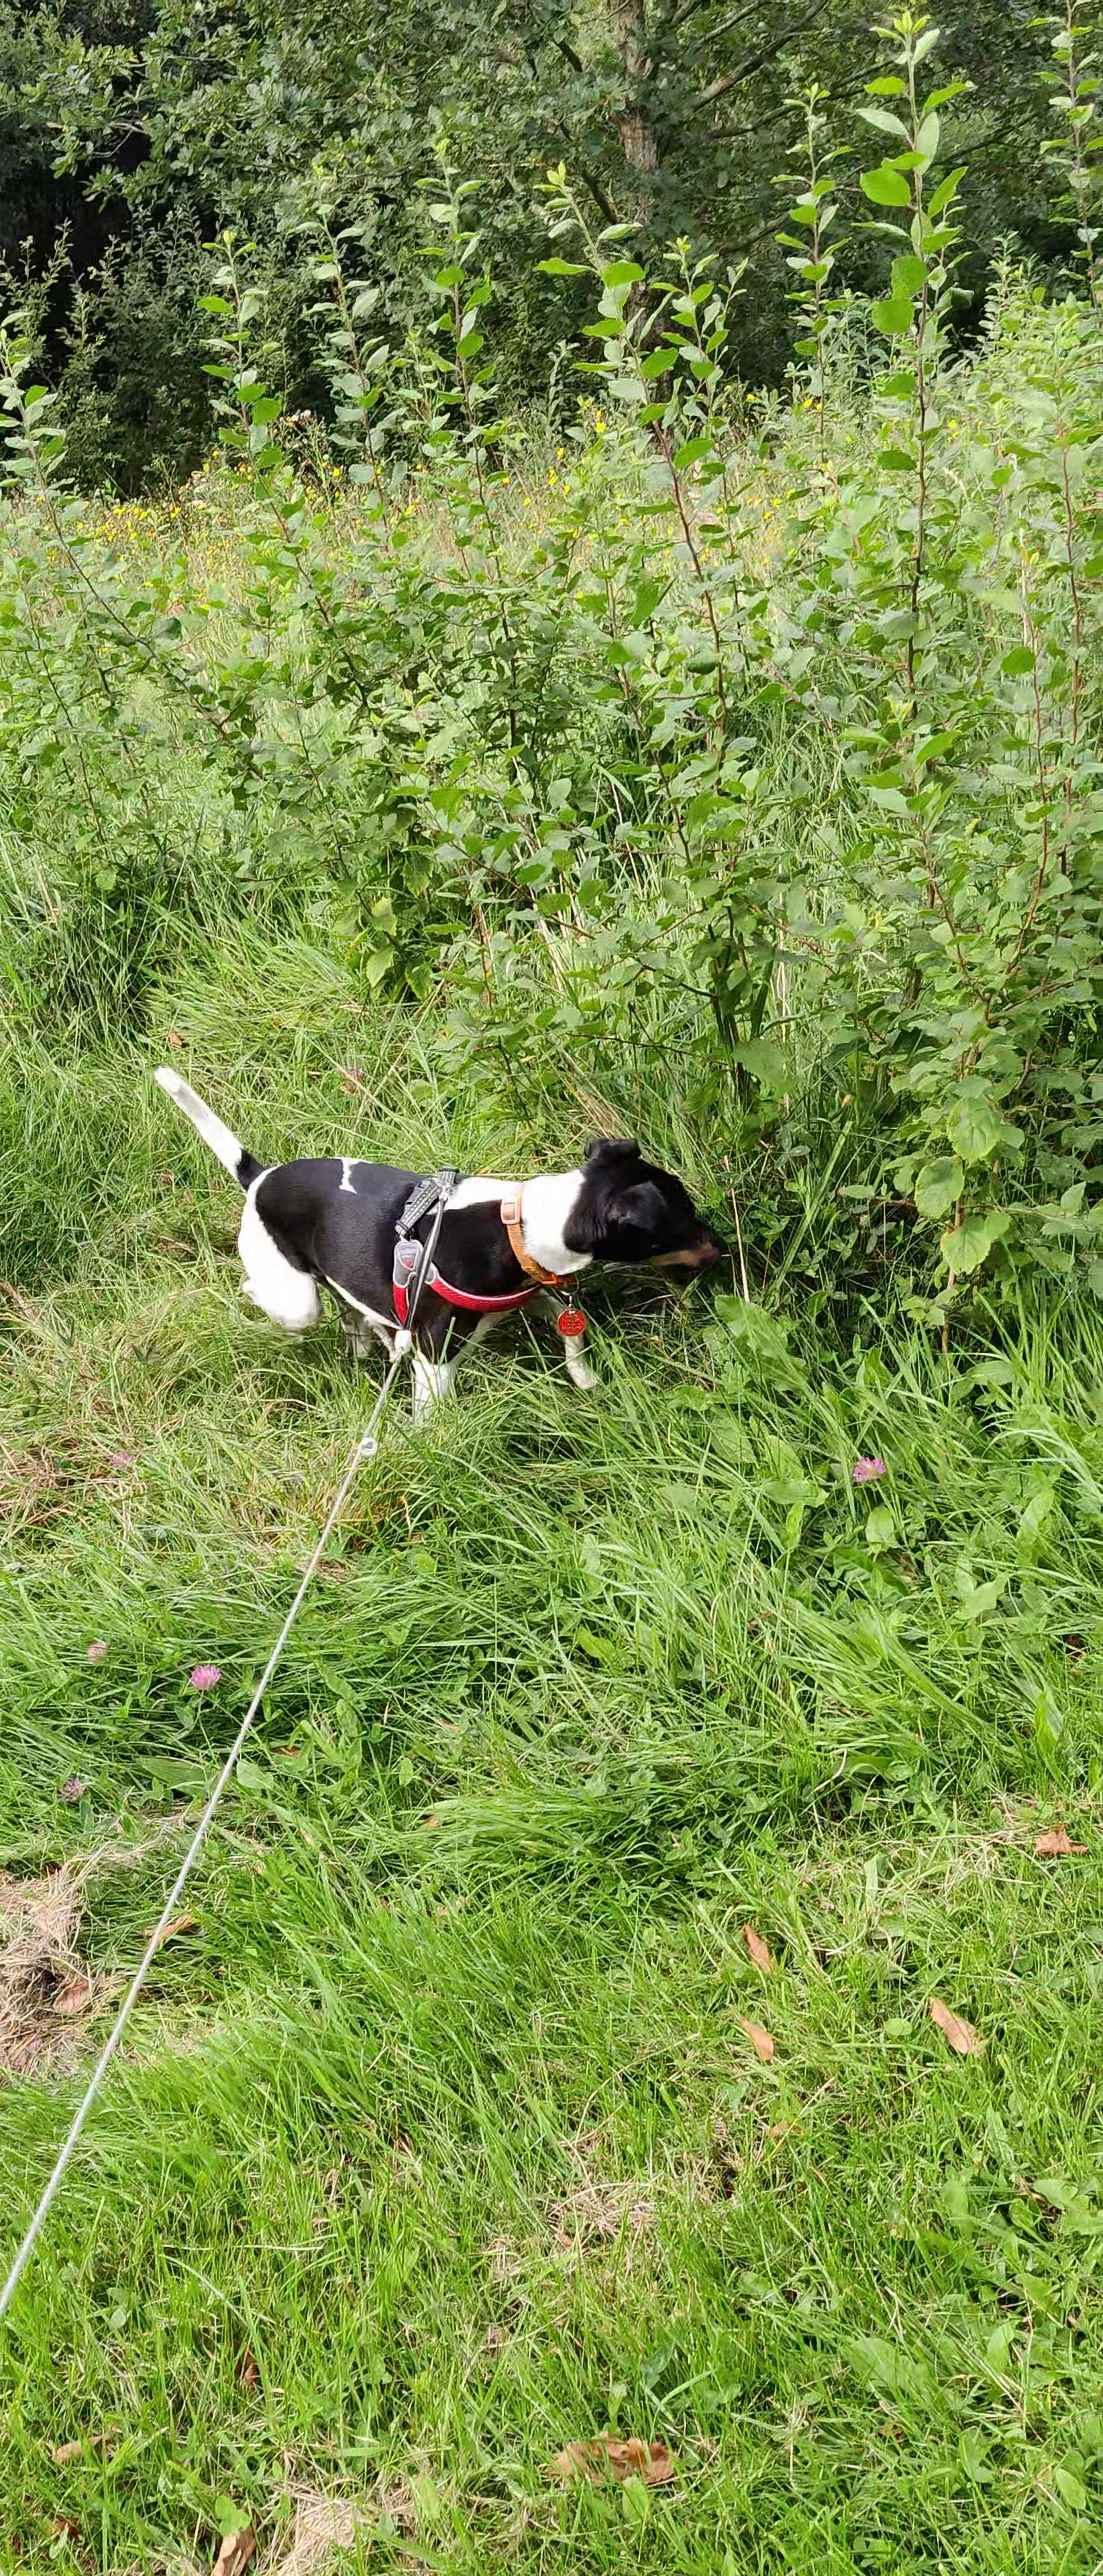Dog: (138, 1037, 745, 1449)
